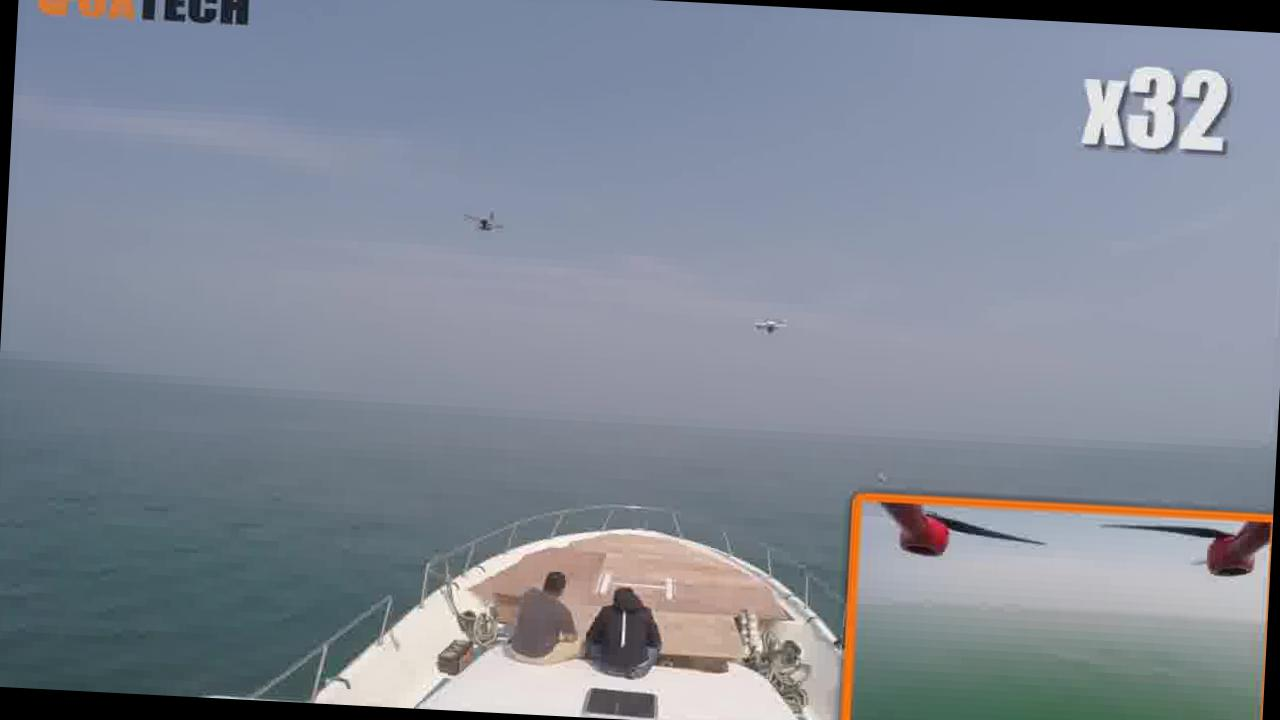drone: (452, 198, 502, 254), (744, 302, 788, 354)
